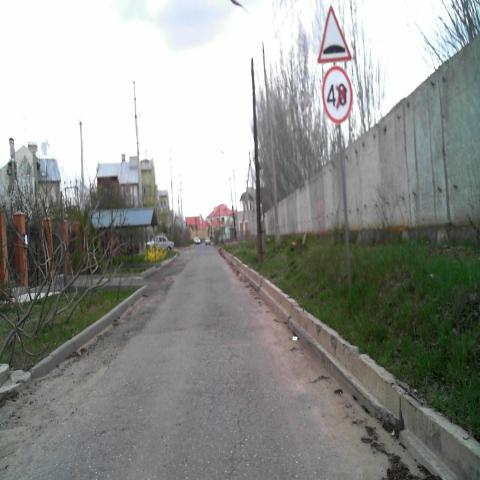1_17: (316, 4, 352, 64)
3_24: (322, 65, 353, 127)
